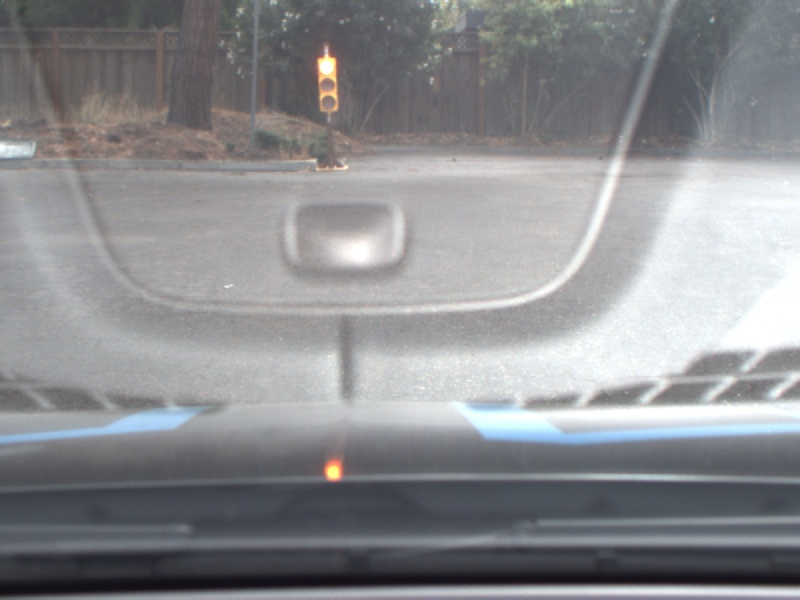red: (315, 52, 345, 119)
